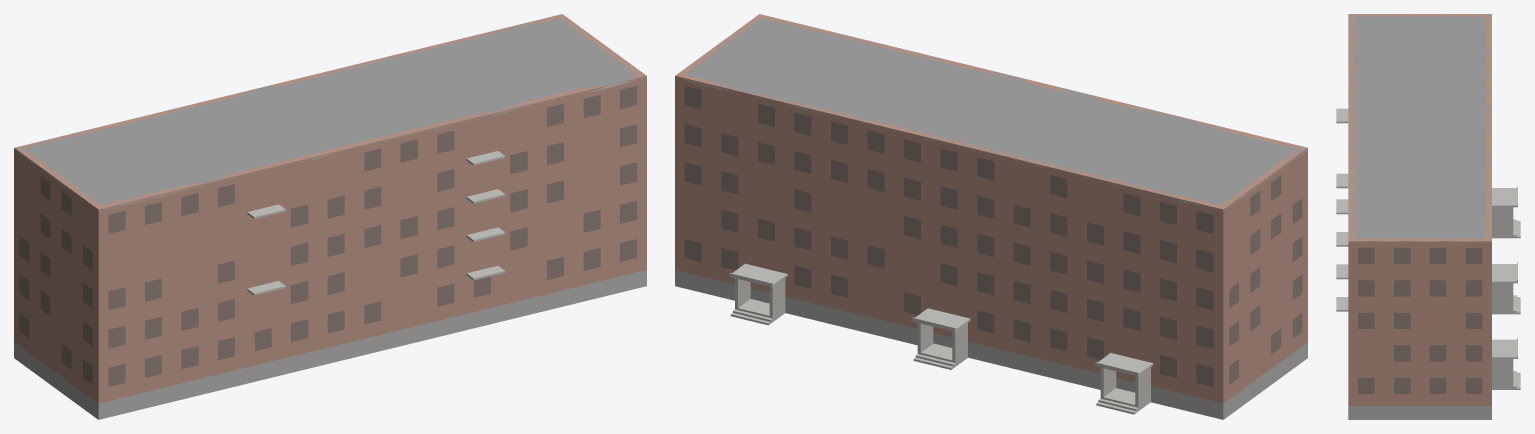
The picture shows the model from 3 angles, left to right: view 1: azimuth 30°, elevation 25°; view 2: azimuth 150°, elevation 25°; view 3: azimuth 270°, elevation 25°; orthographic projection. The views are drawn at different scales.
Visible parts, largest first — view 1: b6_lod2_outer__brick_facade, b6_lod2_slab__roof, b6_lod2_glass, b6_lod2_outer__plinth, b6_lod2_balcony__monolith, b6_lod2_slab__slab_edge; view 2: b6_lod2_outer__brick_facade, b6_lod2_slab__roof, b6_lod2_glass, b6_lod2_outer__plinth, b6_lod2_porch__monolith, b6_lod2_canopy__monolith, b6_lod2_slab__slab_edge; view 3: b6_lod2_slab__roof, b6_lod2_outer__brick_facade, b6_lod2_glass, b6_lod2_porch__monolith, b6_lod2_outer__plinth, b6_lod2_canopy__monolith, b6_lod2_balcony__monolith.
Part boxes in pixels (box(x1,y1,x2,y2)): b6_lod2_outer__brick_facade: box(14, 14, 646, 403); b6_lod2_slab__roof: box(15, 15, 640, 205); b6_lod2_glass: box(19, 86, 637, 386); b6_lod2_outer__plinth: box(14, 270, 646, 419); b6_lod2_balcony__monolith: box(247, 151, 505, 295); b6_lod2_slab__slab_edge: box(14, 76, 645, 211); b6_lod2_outer__brick_facade: box(675, 14, 1307, 403); b6_lod2_slab__roof: box(685, 15, 1305, 208); b6_lod2_glass: box(684, 86, 1302, 386); b6_lod2_outer__plinth: box(675, 270, 1307, 419); b6_lod2_porch__monolith: box(730, 278, 1150, 414); b6_lod2_canopy__monolith: box(729, 263, 1153, 376); b6_lod2_slab__slab_edge: box(677, 77, 1307, 209); b6_lod2_slab__roof: box(1348, 14, 1491, 241); b6_lod2_outer__brick_facade: box(1348, 14, 1491, 405); b6_lod2_glass: box(1358, 247, 1482, 393); b6_lod2_porch__monolith: box(1492, 207, 1520, 389); b6_lod2_outer__plinth: box(1348, 406, 1491, 419); b6_lod2_canopy__monolith: box(1492, 186, 1517, 358); b6_lod2_balcony__monolith: box(1336, 108, 1348, 311).
Size of the model in its own units: 45.04 by 16.5 by 15.4.
